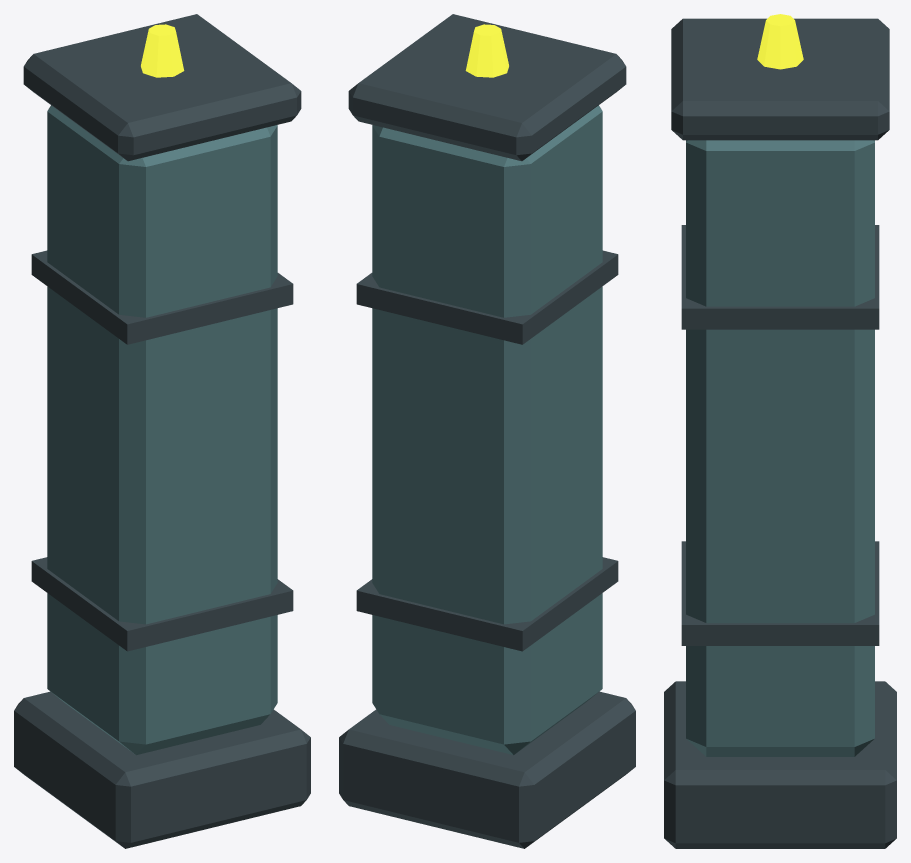
Rendered from Env_WallPost.fbx.
The picture shows the model from 3 angles, left to right: view 1: azimuth 30°, elevation 25°; view 2: azimuth 150°, elevation 25°; view 3: azimuth 270°, elevation 25°; orthographic projection. The views are drawn at different scales.
Parts seen in each view (by area): view 1: Env_WallPost; view 2: Env_WallPost; view 3: Env_WallPost.
Part boxes in pixels (x1,y1,x2,y2): Env_WallPost: [14, 14, 310, 848]; Env_WallPost: [339, 14, 635, 848]; Env_WallPost: [664, 14, 896, 848].
Size of the model in its own units: 1.6 by 1.6 by 5.95.
